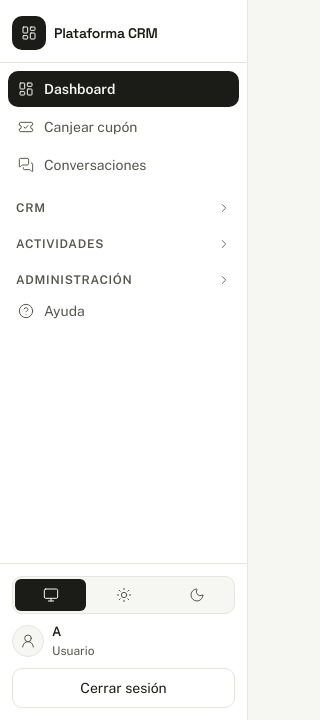
Test: AppLayout — nav gateado por rol (M7) › la navegación existente (Empresas/Contactos/Procesos de venta/Oportunidades) sigue intacta para ambos roles
The image size is (320, 720).
Click the button "CRM" at (124, 202), box [8,185,239,219]
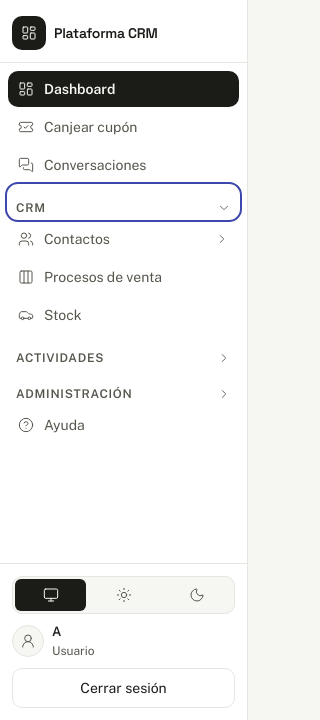
Click the link "Contactos" at (77, 238), box [18,230,229,247]
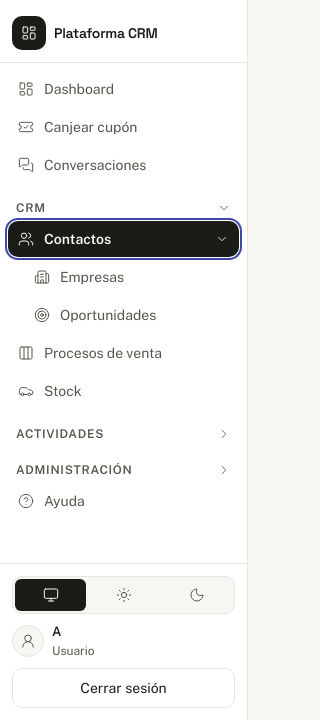
Check: the link "Contactos" is shown, box [8,221,239,257]
Check: the link "Procesos de venta" is shown, box [18,344,162,361]
Check: the link "Empresas" is shown, box [34,268,124,285]
